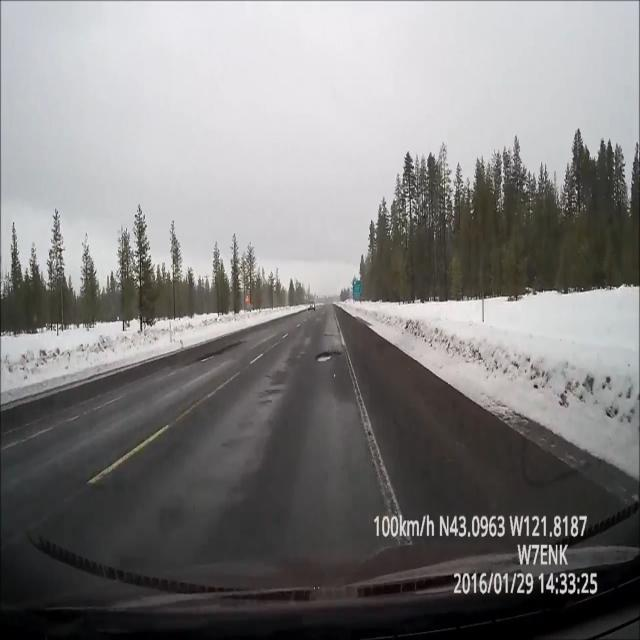Pothole: (197, 334, 249, 369), (314, 341, 348, 364)
